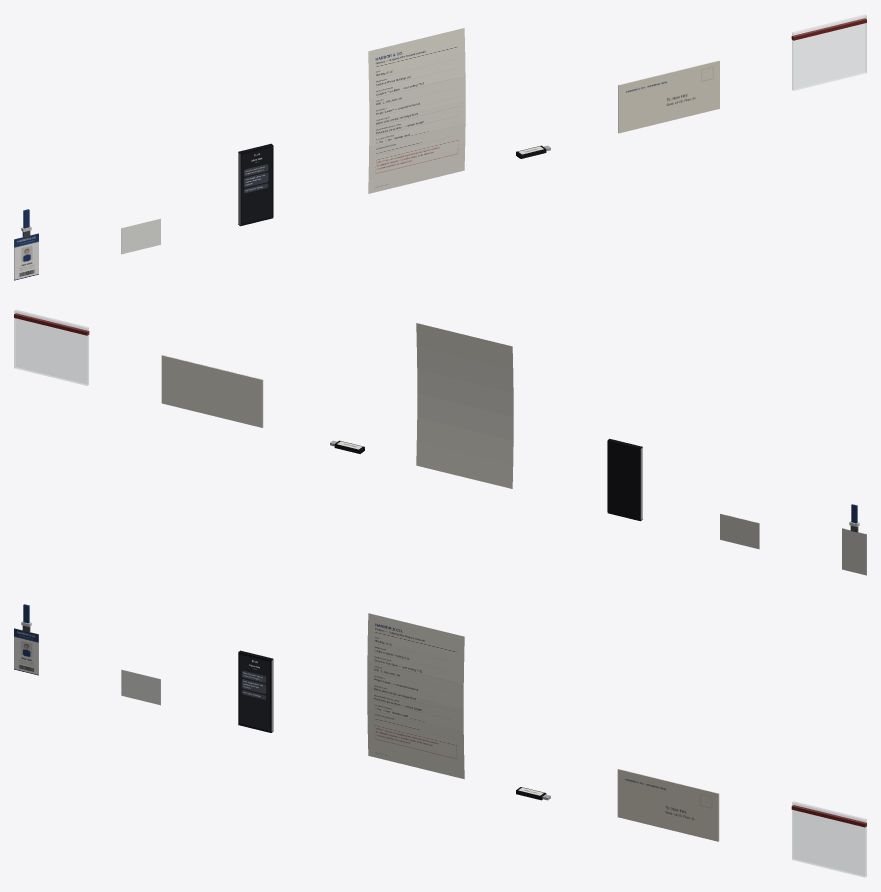
File: harbor_props.glb
3 views of the same model, one above another, from view 1: azimuth 30°, elevation 25°; view 2: azimuth 150°, elevation 25°; view 3: azimuth 330°, elevation 25° (orthographic).
Visible parts, largest first — view 1: Wire_Form, Envelope_Front, Evidence_Bag, Maya_Phone_Screen, Courier_BlankCard_Print, Badge_Player_Print, Maya_Phone; view 2: Wire_Form, Envelope_Handheld, Evidence_Bag, Maya_Phone, Courier_BlankCard, Badge_Player; view 3: Wire_Form, Envelope_Front, Evidence_Bag, Maya_Phone_Screen, Courier_BlankCard_Print, Badge_Player_Print, Maya_Phone.
Boxes of the visible parts, <box> form: Wire_Form: <box>368,28,465,193</box>; Envelope_Front: <box>619,61,719,133</box>; Evidence_Bag: <box>791,14,866,90</box>; Maya_Phone_Screen: <box>242,147,271,223</box>; Courier_BlankCard_Print: <box>121,219,160,254</box>; Badge_Player_Print: <box>14,233,38,280</box>; Maya_Phone: <box>238,143,273,226</box>; Wire_Form: <box>416,323,513,488</box>; Envelope_Handheld: <box>161,355,263,427</box>; Evidence_Bag: <box>14,310,89,385</box>; Maya_Phone: <box>607,438,642,521</box>; Courier_BlankCard: <box>720,513,759,549</box>; Badge_Player: <box>842,528,866,575</box>; Wire_Form: <box>367,613,464,779</box>; Envelope_Front: <box>617,769,718,841</box>; Evidence_Bag: <box>791,801,866,877</box>; Maya_Phone_Screen: <box>239,654,269,730</box>; Courier_BlankCard_Print: <box>121,670,160,705</box>; Badge_Player_Print: <box>14,628,38,675</box>; Maya_Phone: <box>238,650,273,732</box>.
Size of the model in its own units: 1.86 by 0.297 by 0.018.
Materials: 16 (7 with a texture image).
